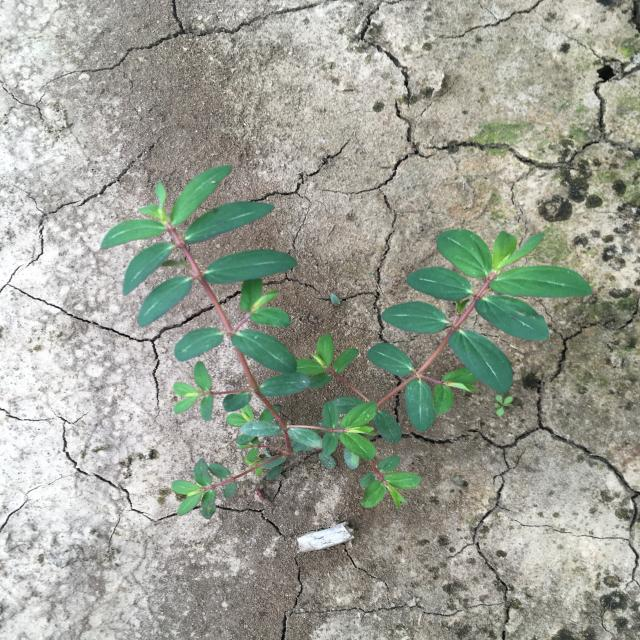Carpetweed: (494, 396, 514, 416)
SpottedSpurge: (99, 166, 593, 519)
